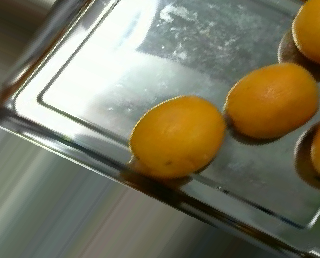Orange: (130, 95, 226, 176), (225, 61, 316, 140)
